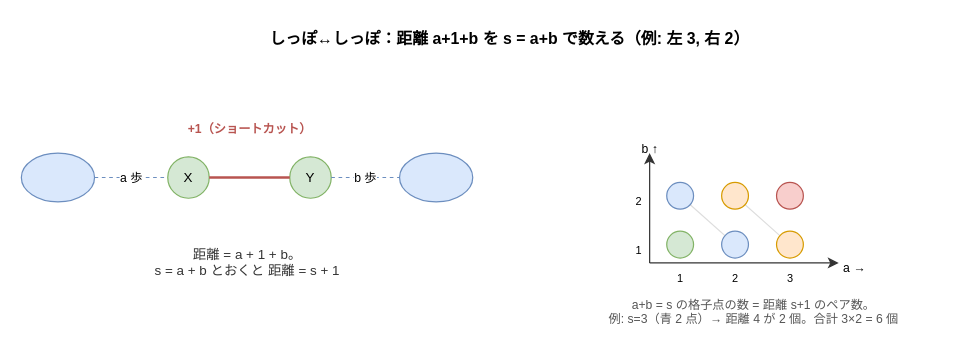
Some shapes in this 970 by 359 pixel diagram are drawn without their labels. Each missing label, with the centre of its shape:
"右 深さ b" belongs at pixel 435 177.
"左 深さ a" belongs at pixel 57 177.
